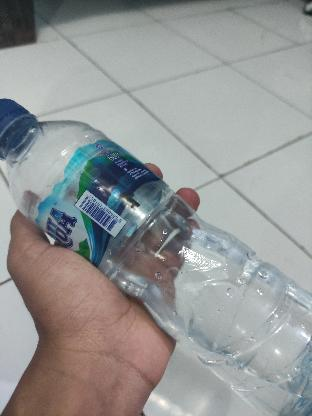Plastic Bottle: (0, 82, 312, 416)
